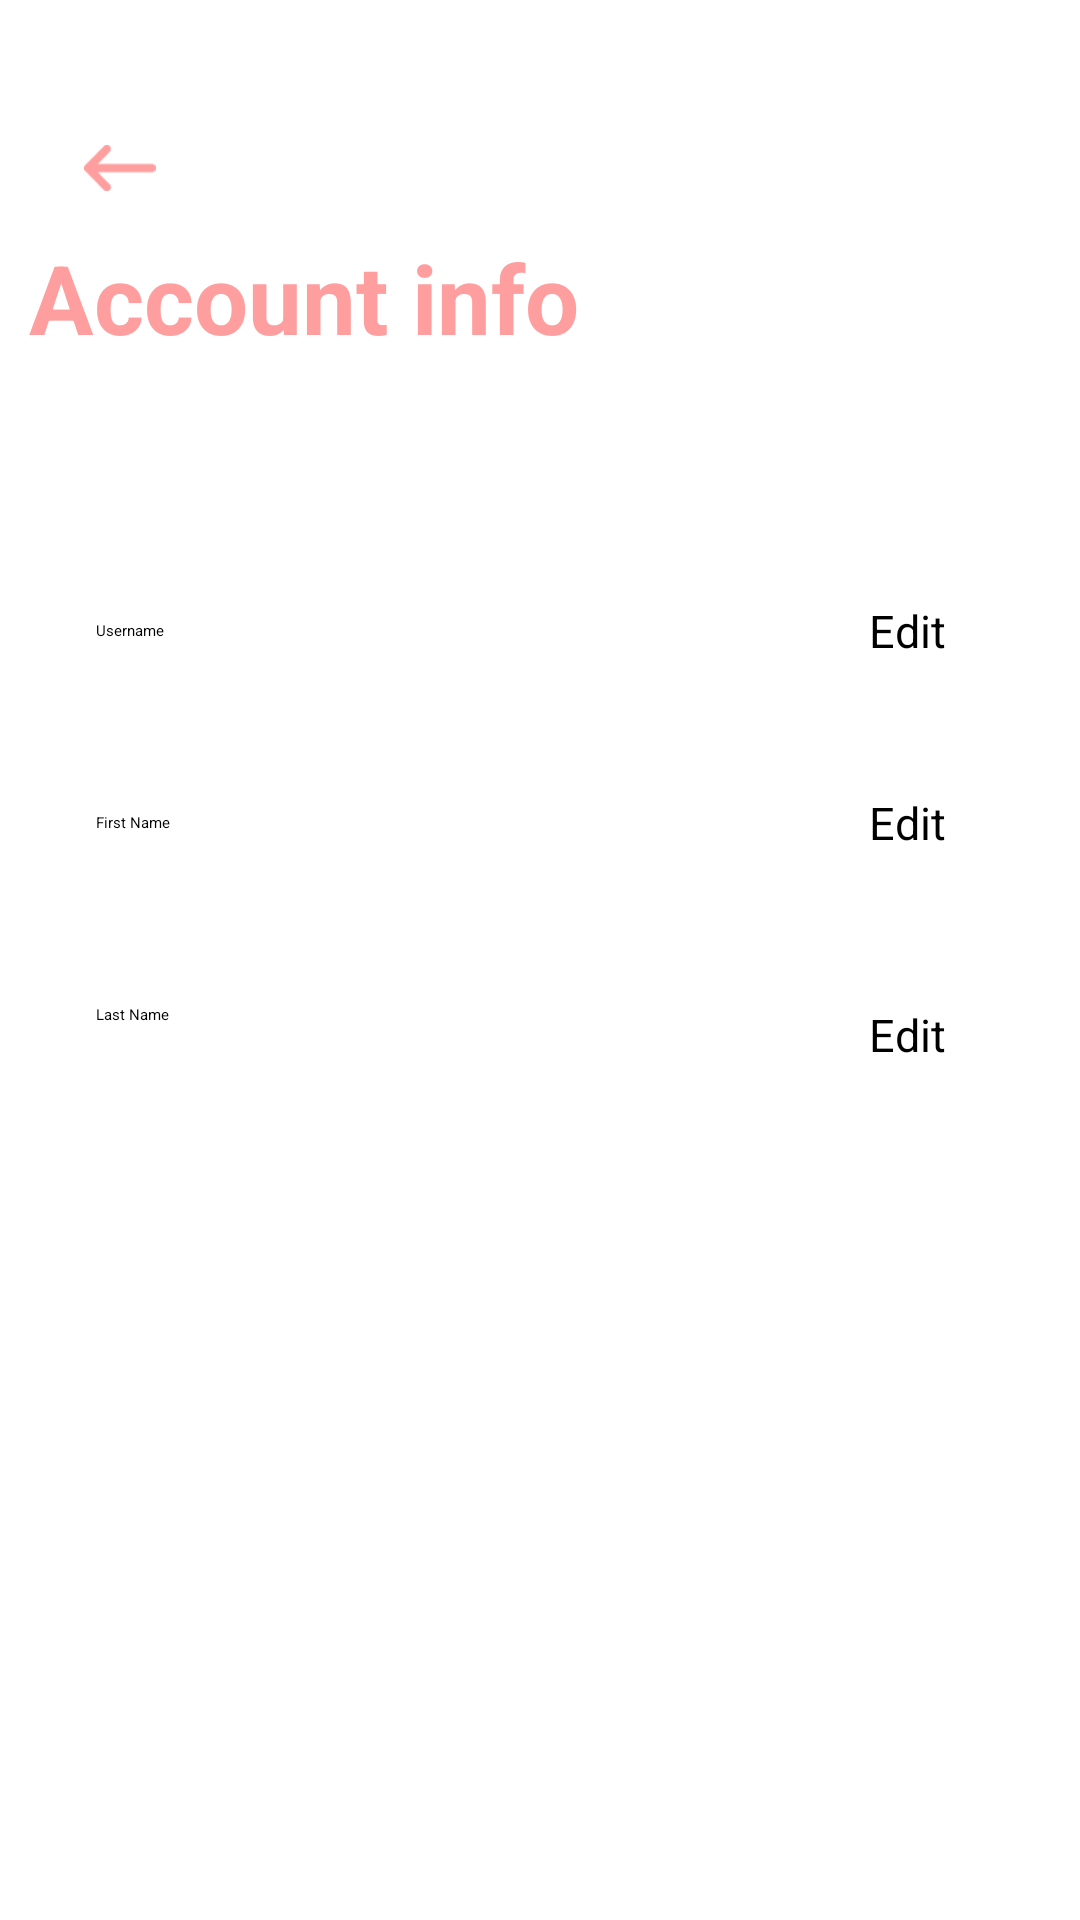

Screen size 1080 x 1920. Icon name, then its box in pixels as box=[x1, y1, x2, y2]:
backarrow: box=[84, 145, 156, 191]
